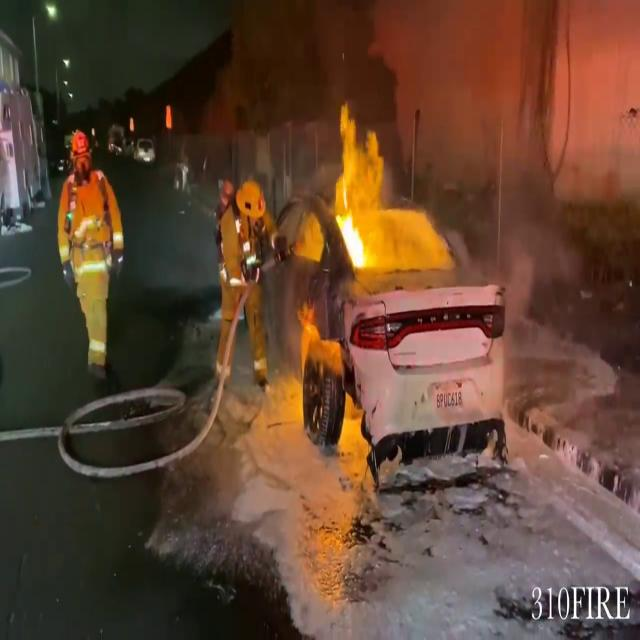Fire: (319, 95, 397, 275)
